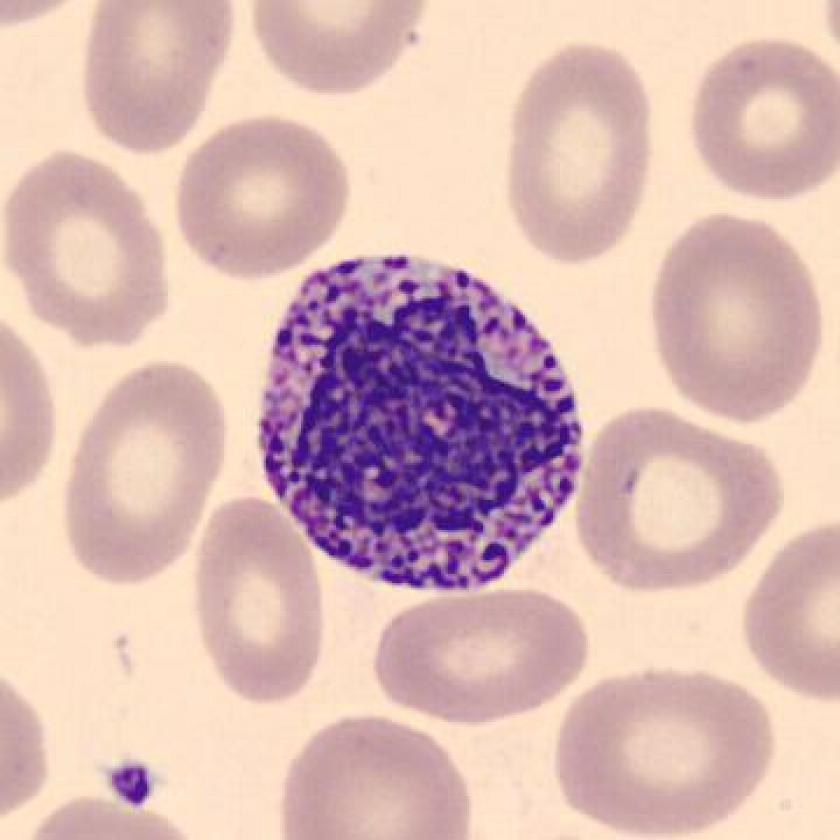basophil: (246, 244, 594, 600)
